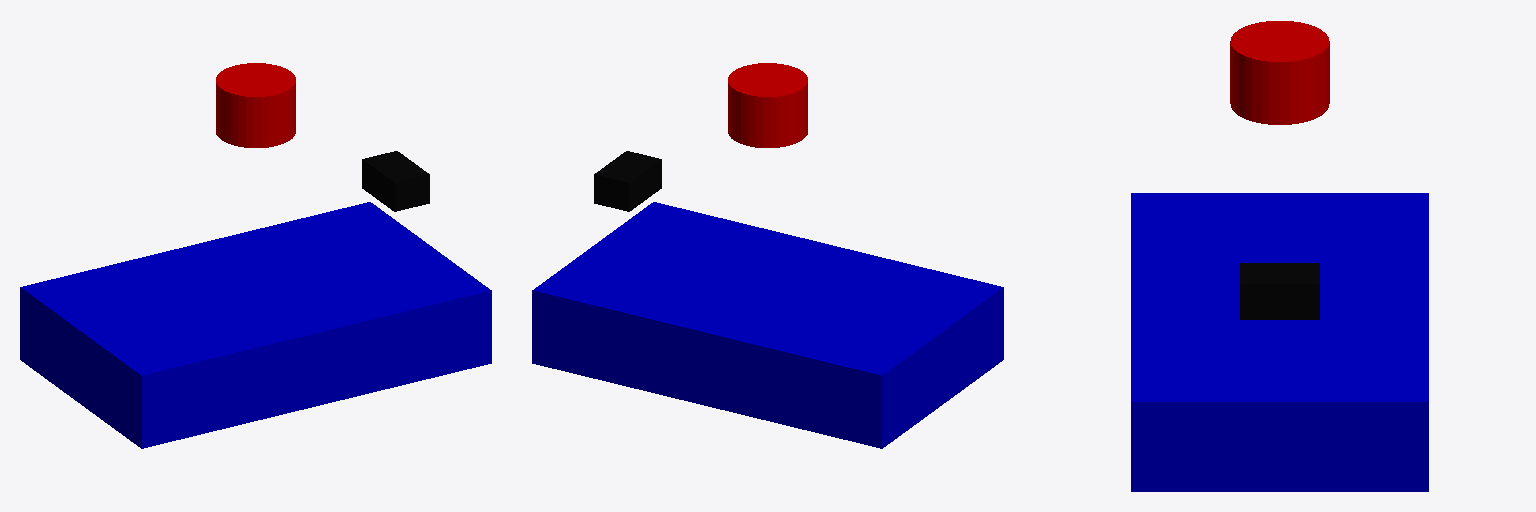
URDF robot description (slam_robot):
<?xml version="1.0"?>
<robot name="slam_robot">

  <!--
    Standard SLAM-style robot description.
    Loaded by robot_state_publisher in launch/demo.launch.py to broadcast
    the static base_link -> camera/lidar/imu transforms.
  -->

  <link name="base_link">
    <visual>
      <origin xyz="0 0 0" rpy="0 0 0"/>
      <geometry>
        <box size="0.5 0.3 0.1"/>
      </geometry>
      <material name="blue">
        <color rgba="0.0 0.0 0.8 1.0"/>
      </material>
    </visual>
  </link>

  <link name="camera_link">
    <visual>
      <origin xyz="0 0 0" rpy="0 0 0"/>
      <geometry>
        <box size="0.05 0.08 0.04"/>
      </geometry>
      <material name="black">
        <color rgba="0.05 0.05 0.05 1.0"/>
      </material>
    </visual>
  </link>

  <link name="lidar_link">
    <visual>
      <origin xyz="0 0 0" rpy="0 0 0"/>
      <geometry>
        <cylinder radius="0.05" length="0.07"/>
      </geometry>
      <material name="red">
        <color rgba="0.8 0.0 0.0 1.0"/>
      </material>
    </visual>
  </link>

  <link name="imu_link"/>

  <joint name="base_to_camera" type="fixed">
    <parent link="base_link"/>
    <child link="camera_link"/>
    <origin xyz="0.2 0.0 0.15" rpy="0 0 0"/>
  </joint>

  <joint name="base_to_lidar" type="fixed">
    <parent link="base_link"/>
    <child link="lidar_link"/>
    <origin xyz="0.0 0.0 0.30" rpy="0 0 0"/>
  </joint>

  <joint name="base_to_imu" type="fixed">
    <parent link="base_link"/>
    <child link="imu_link"/>
    <origin xyz="0.05 0.0 0.05" rpy="0 0 0"/>
  </joint>

</robot>

--- What the picture shows (computed from the rendered views, not written in the file) ---
3 views of the same robot in one strip: view 1: azimuth 30°, elevation 25°; view 2: azimuth 150°, elevation 25°; view 3: azimuth 270°, elevation 25° (orthographic).
Robot: slam_robot — 4 links, 3 joints (3 fixed); root link base_link; default pose: all joints at 0.
Visible links, largest first — view 1: base_link, lidar_link, camera_link; view 2: base_link, lidar_link, camera_link; view 3: base_link, lidar_link, camera_link.
Boxes of the visible links, bbox=[...] form: base_link: bbox=[20, 202, 491, 448]; lidar_link: bbox=[216, 63, 295, 147]; camera_link: bbox=[362, 151, 429, 211]; base_link: bbox=[532, 202, 1003, 448]; lidar_link: bbox=[728, 63, 807, 147]; camera_link: bbox=[594, 151, 661, 211]; base_link: bbox=[1131, 193, 1428, 491]; lidar_link: bbox=[1230, 21, 1329, 124]; camera_link: bbox=[1240, 263, 1319, 319].
Bounding box of the posed robot: 0.5 × 0.3 × 0.385 m (x, y, z).
Geometry: primitives only (box / cylinder / sphere), no mesh files.
